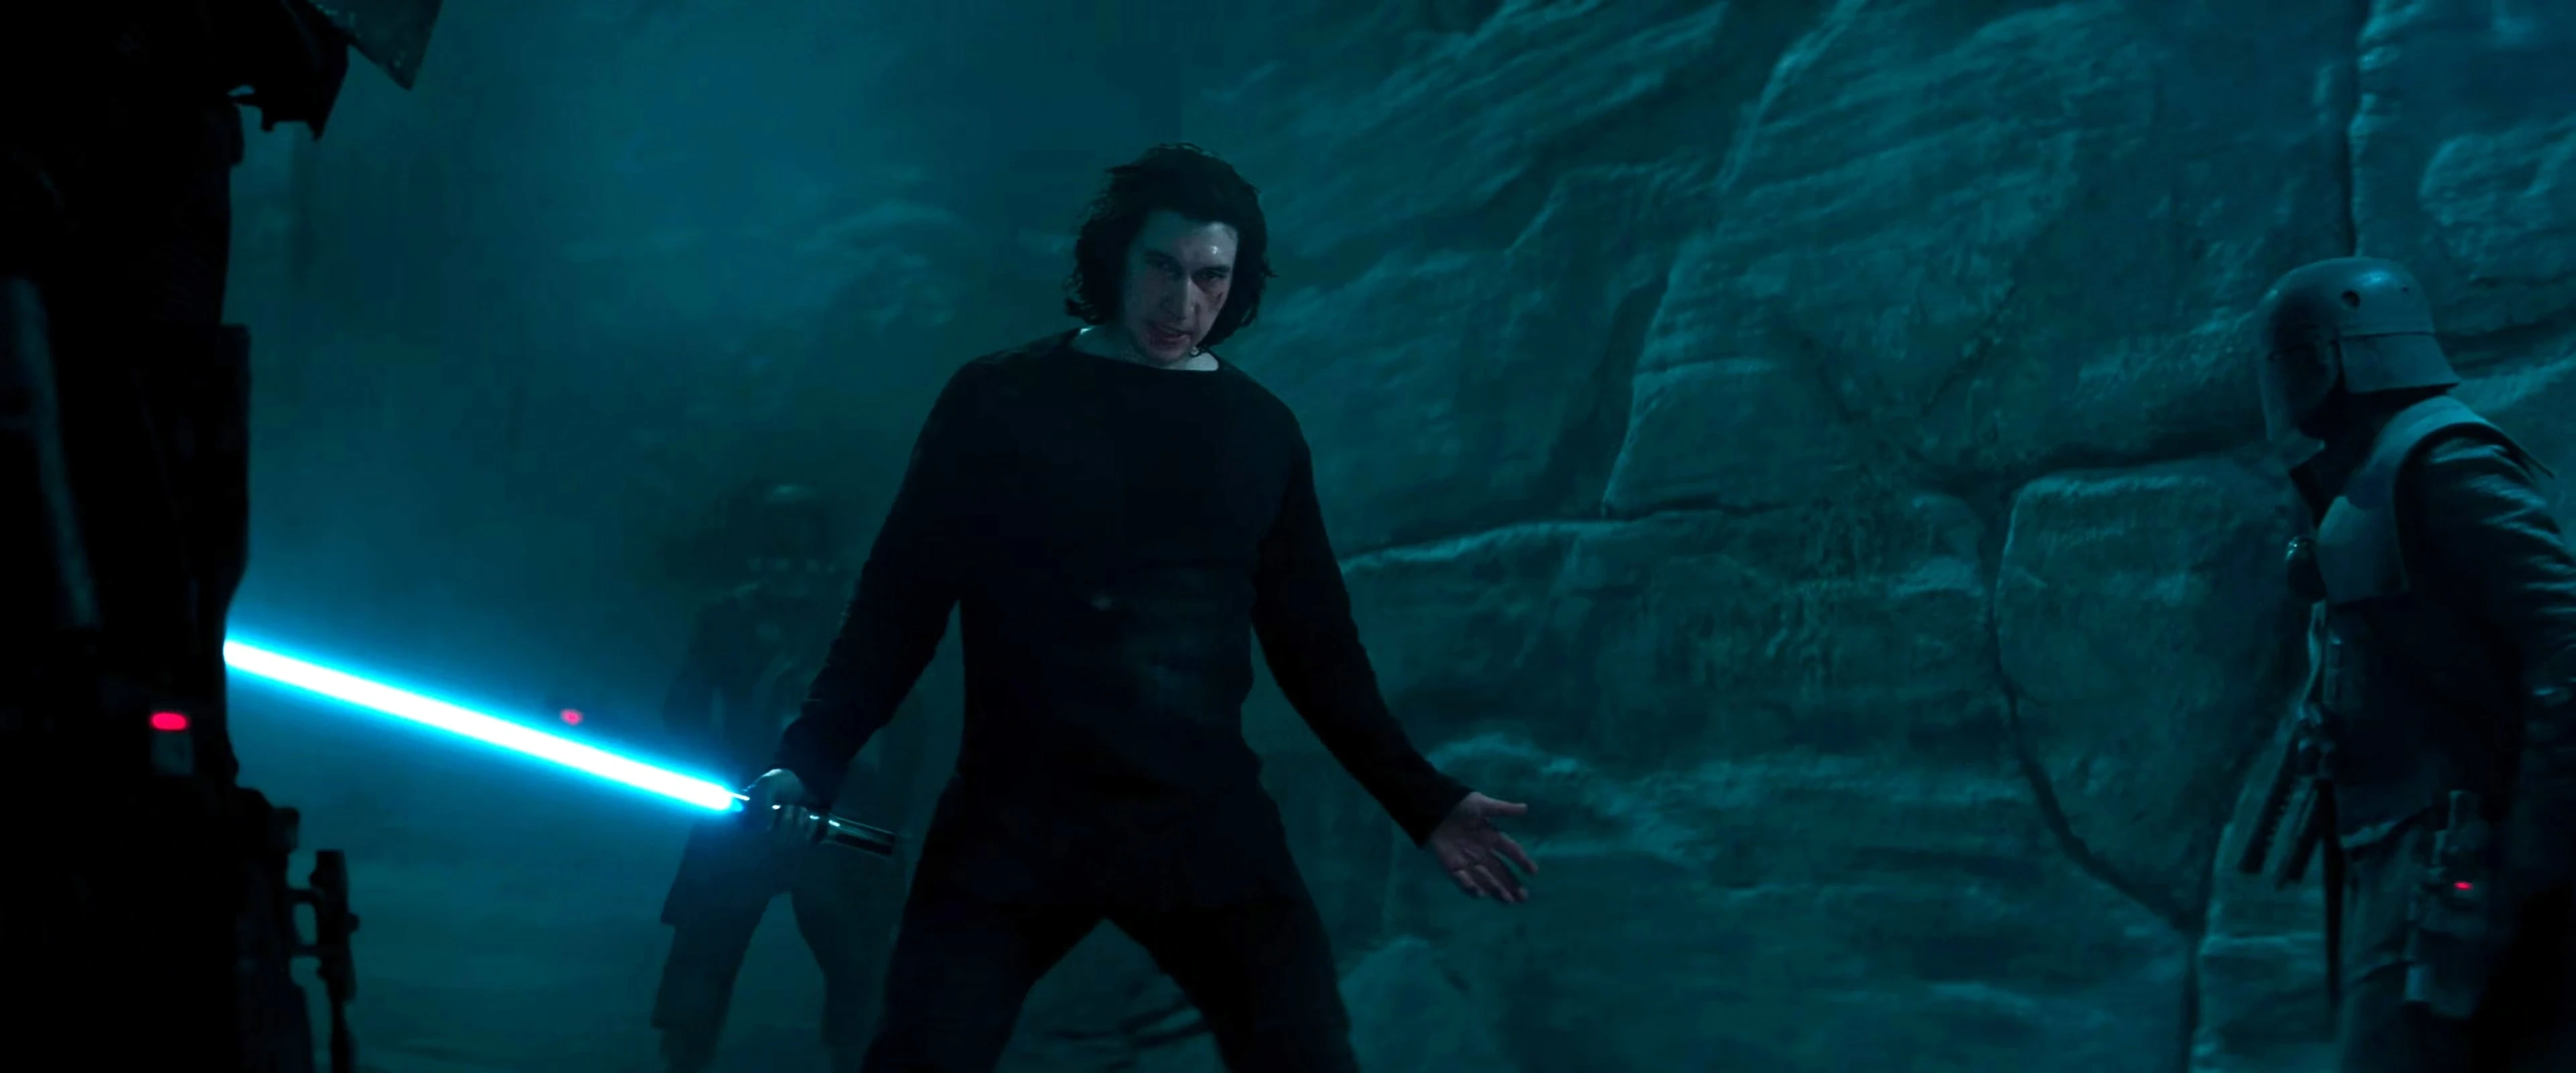Dalek: (197, 610, 907, 869)
